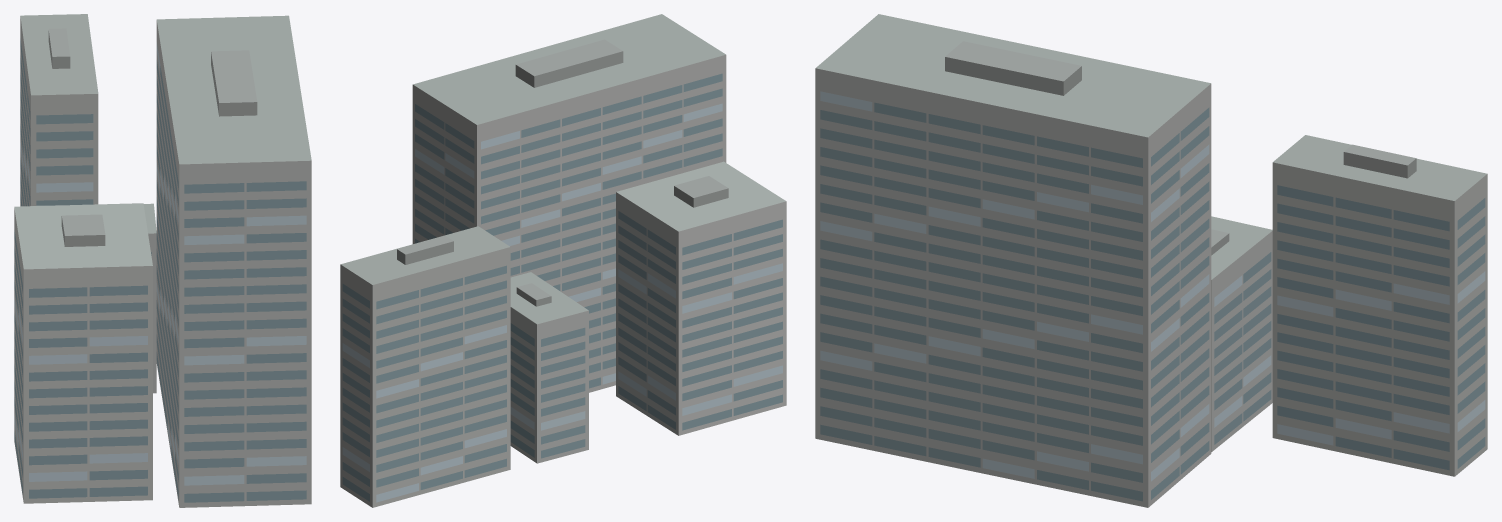
The model's file is apt-a10027877.glb.
3 renders of one model, left to right at view 1: azimuth 30°, elevation 25°; view 2: azimuth 150°, elevation 25°; view 3: azimuth 270°, elevation 25°, orthographic. The views are drawn at different scales.
Visible parts, largest first — view 1: apt-a10027877; view 2: apt-a10027877; view 3: apt-a10027877.
Part boxes in pixels (x1,y1,x2,y2): apt-a10027877: [14, 14, 311, 507]; apt-a10027877: [340, 14, 786, 507]; apt-a10027877: [815, 14, 1487, 507].
Size of the model in its own units: 65.13 by 64 by 101.
